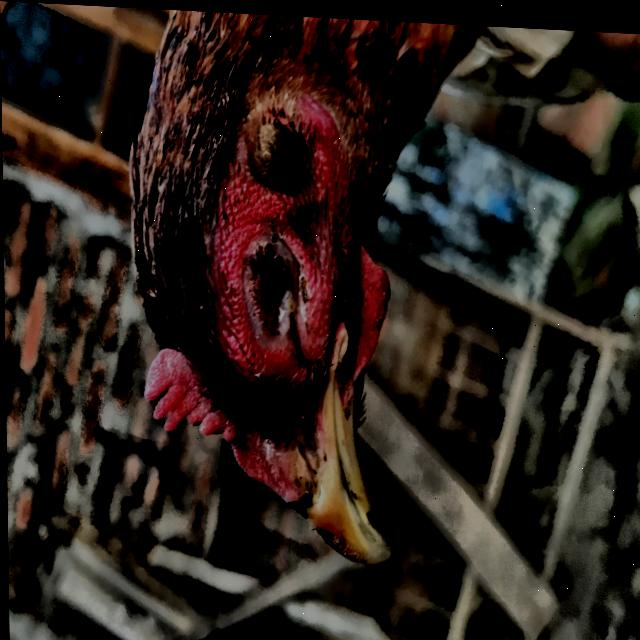Coryza: (89, 4, 604, 640)
